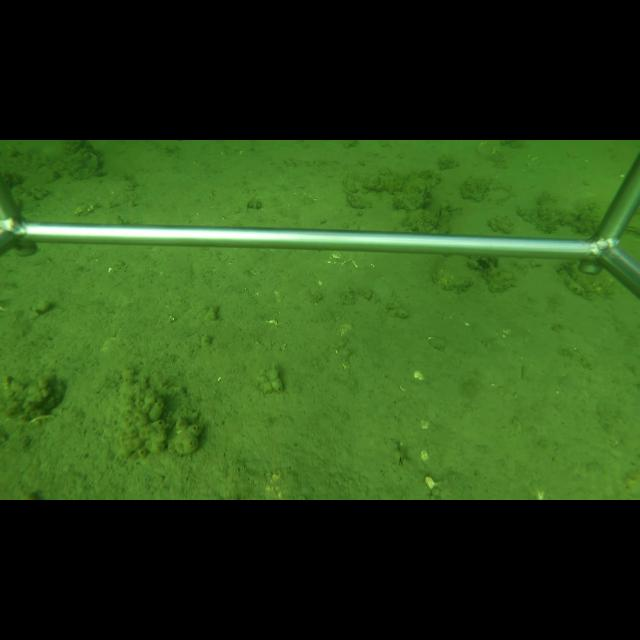Oyster-Closed: (430, 255, 475, 292)
